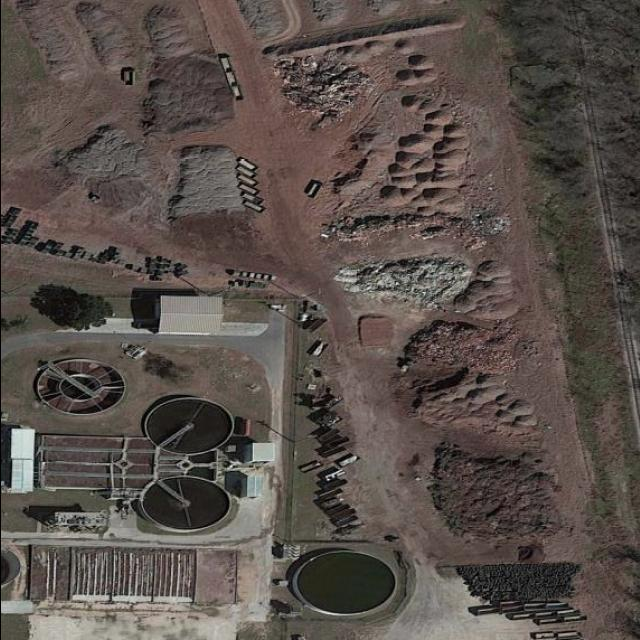dump_site: (319, 245, 478, 314), (267, 44, 392, 129)
